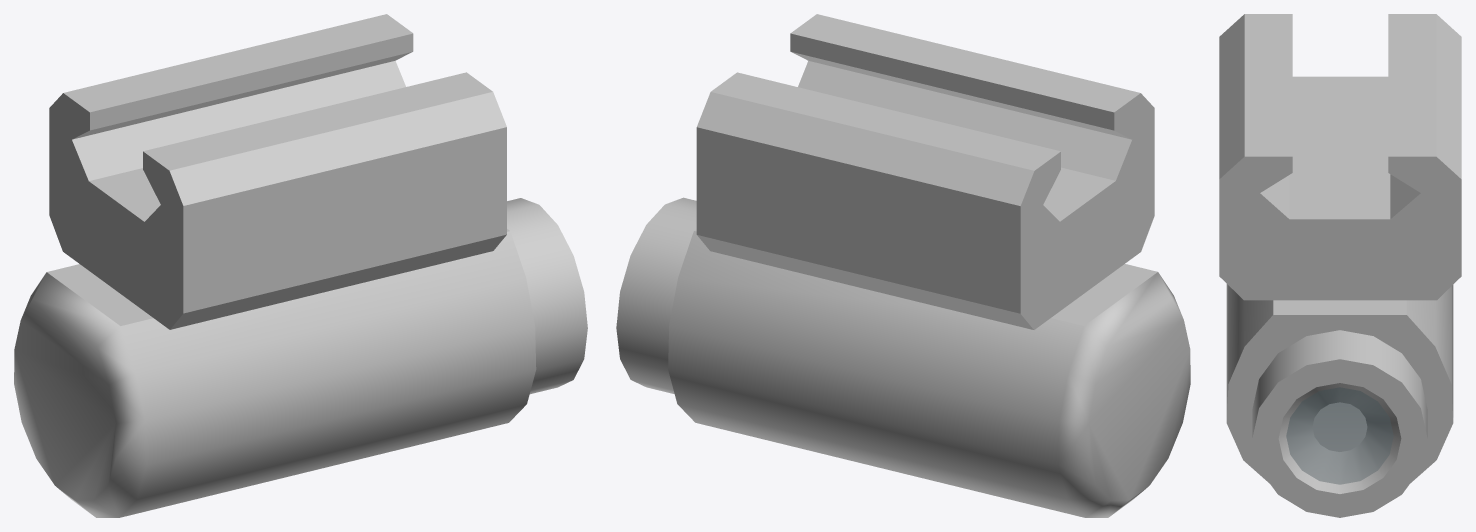
Rendered from Tactical_Flashlight_02.fbx.
The picture shows the model from 3 angles, left to right: view 1: azimuth 30°, elevation 25°; view 2: azimuth 150°, elevation 25°; view 3: azimuth 270°, elevation 25°; orthographic projection. The views are drawn at different scales.
Parts seen in each view (by area): view 1: Tactical_Flashlight_02; view 2: Tactical_Flashlight_02; view 3: Tactical_Flashlight_02.
Boxes of the visible parts, bbox=[...] form: Tactical_Flashlight_02: bbox=[14, 14, 587, 517]; Tactical_Flashlight_02: bbox=[616, 14, 1190, 517]; Tactical_Flashlight_02: bbox=[1219, 14, 1461, 517].
Size of the model in its own units: 8 by 5.94 by 3.91.
